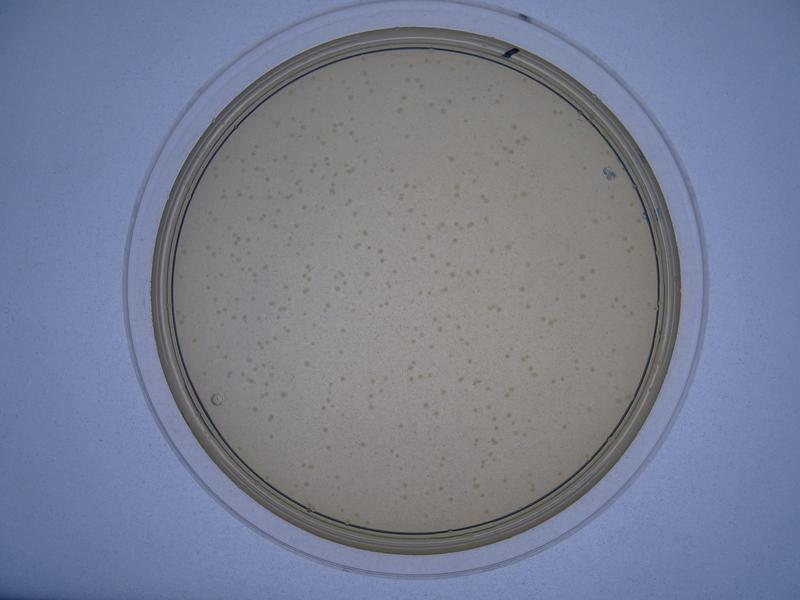colony: (519, 256, 536, 273), (333, 321, 349, 338), (442, 153, 458, 169), (417, 508, 433, 524), (395, 221, 410, 238), (261, 429, 277, 444), (298, 357, 313, 372), (333, 344, 347, 360), (355, 436, 369, 452), (306, 102, 320, 118), (490, 156, 503, 172), (507, 117, 519, 134), (557, 421, 571, 435), (388, 264, 401, 279), (391, 106, 407, 118), (330, 470, 342, 485), (319, 423, 332, 436), (576, 248, 588, 262), (418, 399, 432, 411), (188, 331, 199, 346), (332, 231, 345, 243), (267, 221, 280, 233), (576, 291, 588, 303), (608, 344, 619, 357), (388, 167, 398, 178)
